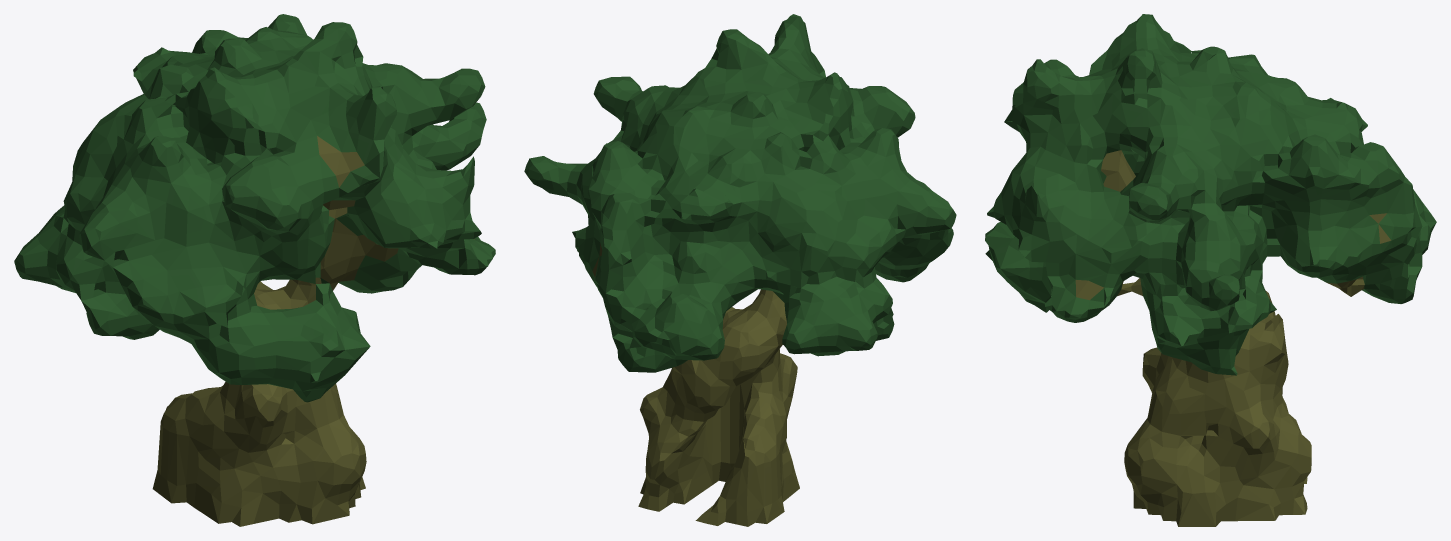
Rendered from wishingTree.fbx.
The picture shows the model from 3 angles, left to right: view 1: azimuth 30°, elevation 25°; view 2: azimuth 150°, elevation 25°; view 3: azimuth 270°, elevation 25°; orthographic projection. The views are drawn at different scales.
Parts seen in each view (by area): view 1: wishingtree; view 2: wishingtree; view 3: wishingtree.
Part boxes in pixels (left/top/right/bottom): wishingtree: left=14, top=14, right=495, bottom=526; wishingtree: left=524, top=14, right=956, bottom=526; wishingtree: left=985, top=14, right=1436, bottom=526.
Size of the model in its own units: 979 by 1034 by 934.
